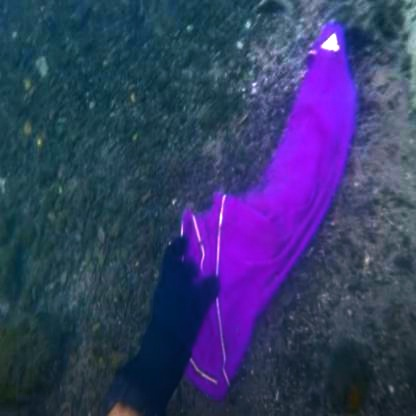plastic: (200, 11, 359, 383)
